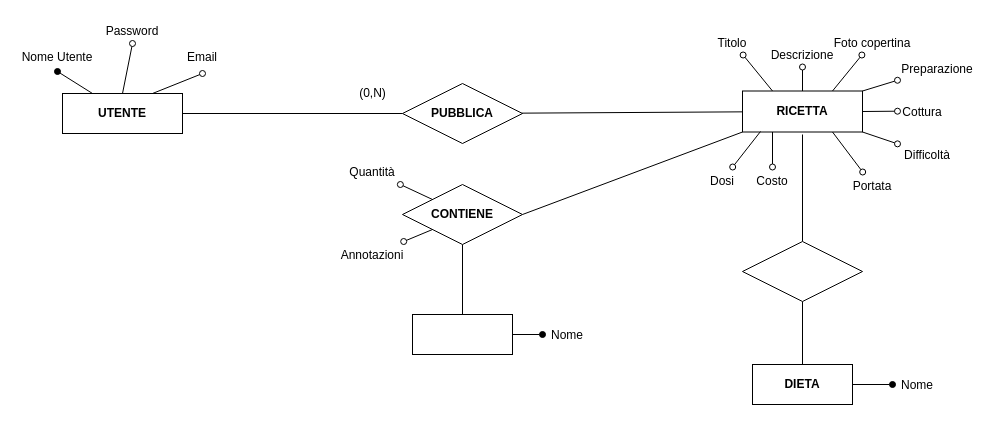
The diagram is 994 pixels wide and 422 high, and some of its shapes have lost their labels. Here are the shapes that lost their labels. From the top down, the box of each, then its label:
(742, 240, 862, 302): APPARTIENE
(412, 314, 512, 354): INGREDIENTE
